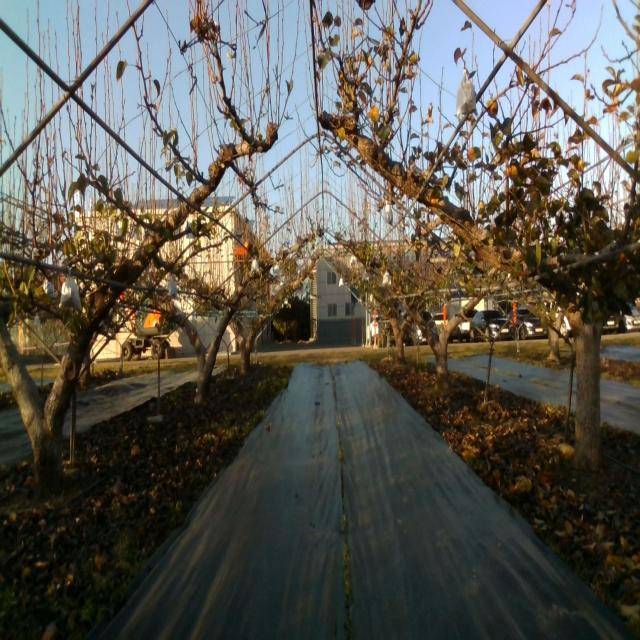pearbags: (456, 69, 478, 120), (59, 276, 82, 313), (168, 278, 178, 299)
